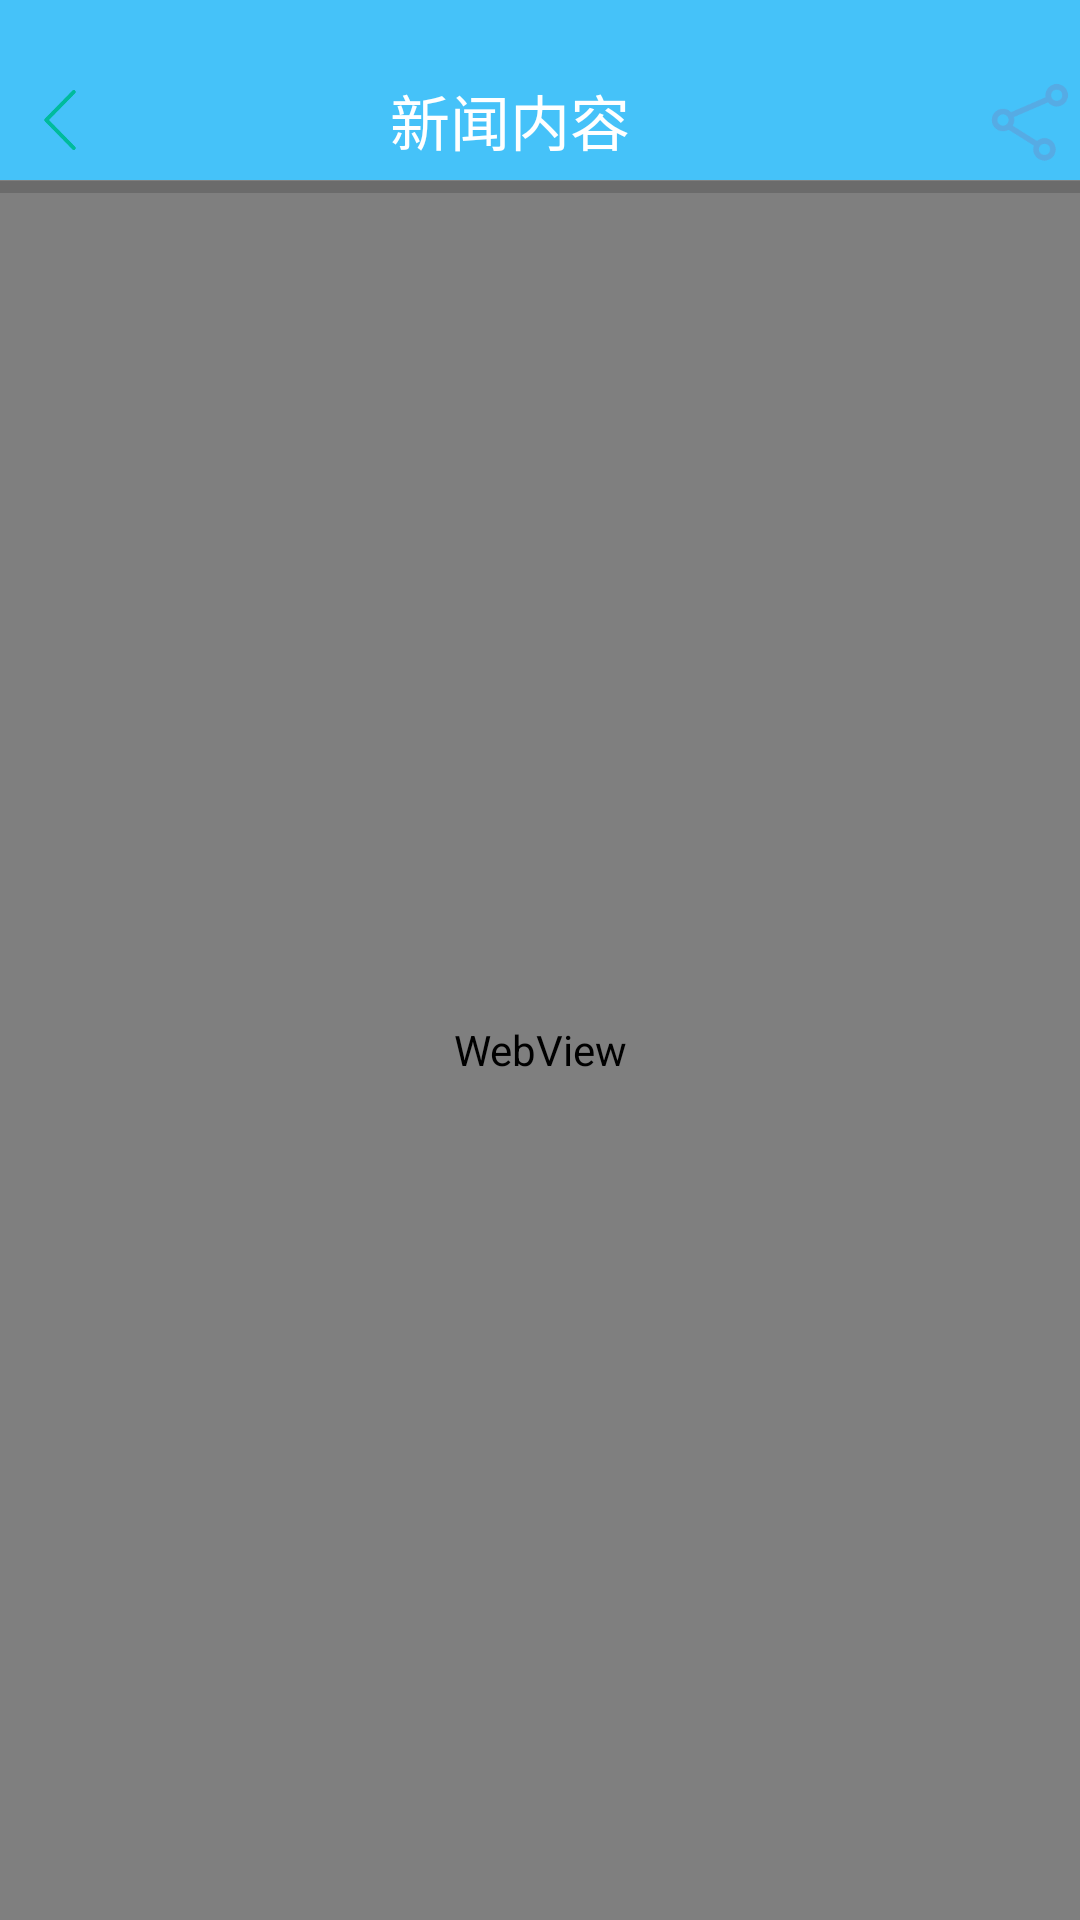

Screen size 1080×1920. Icon name, then its center in pixels as [x,y]:
back: [60,120]
